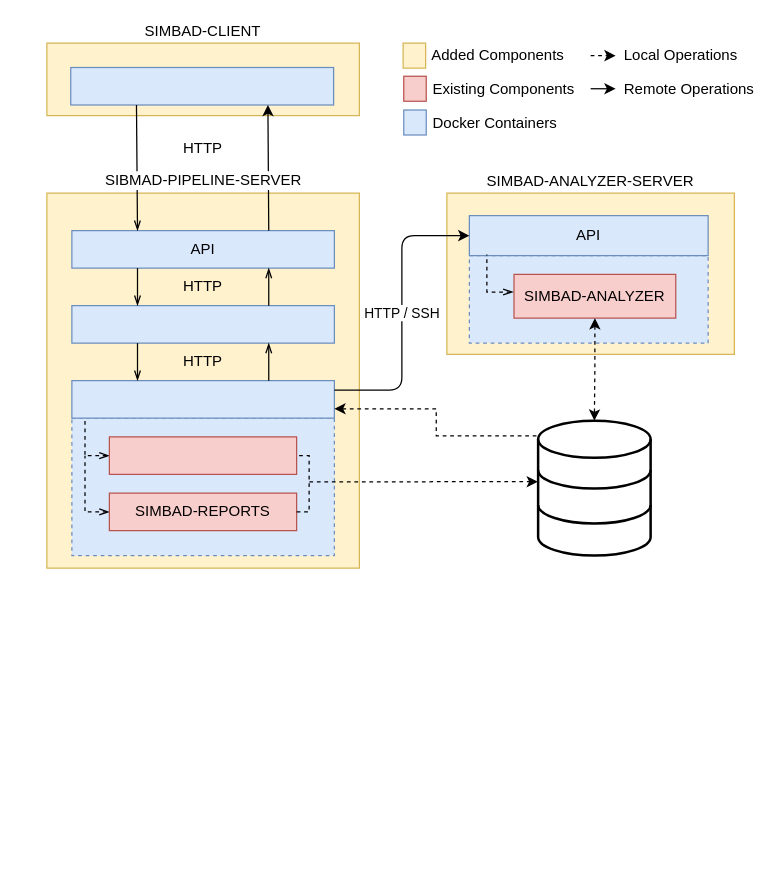
Some shapes in this 775 by 889 pixel diagram are drawn without their labels. Here are the shapes that lost their labels. From the top down, the centre of each, then its label:
At (202,85): "NGINX".
At (202,323): "REDIS".
At (202,398): "CELERY-WORKER".
At (202,455): "SIMBAD-CLI".
At (593,487): "Shared Volume".
